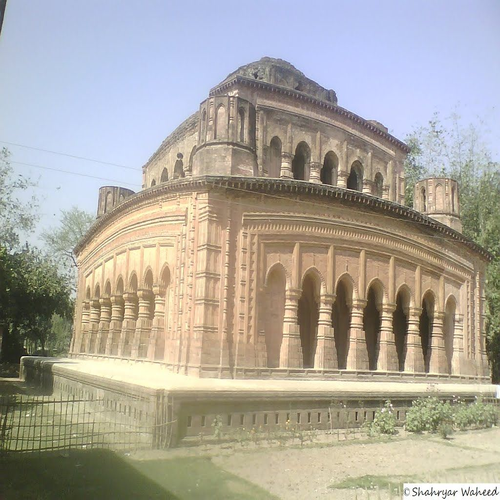Temple: (49, 53, 487, 401)
